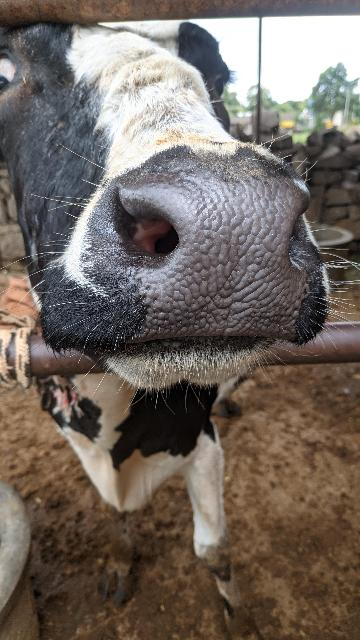Muzzle: (126, 176, 300, 344)
